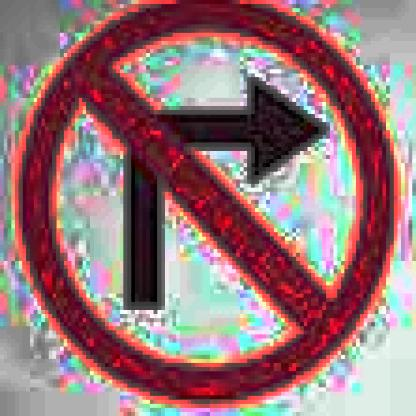No right turn: (11, 0, 405, 404)
